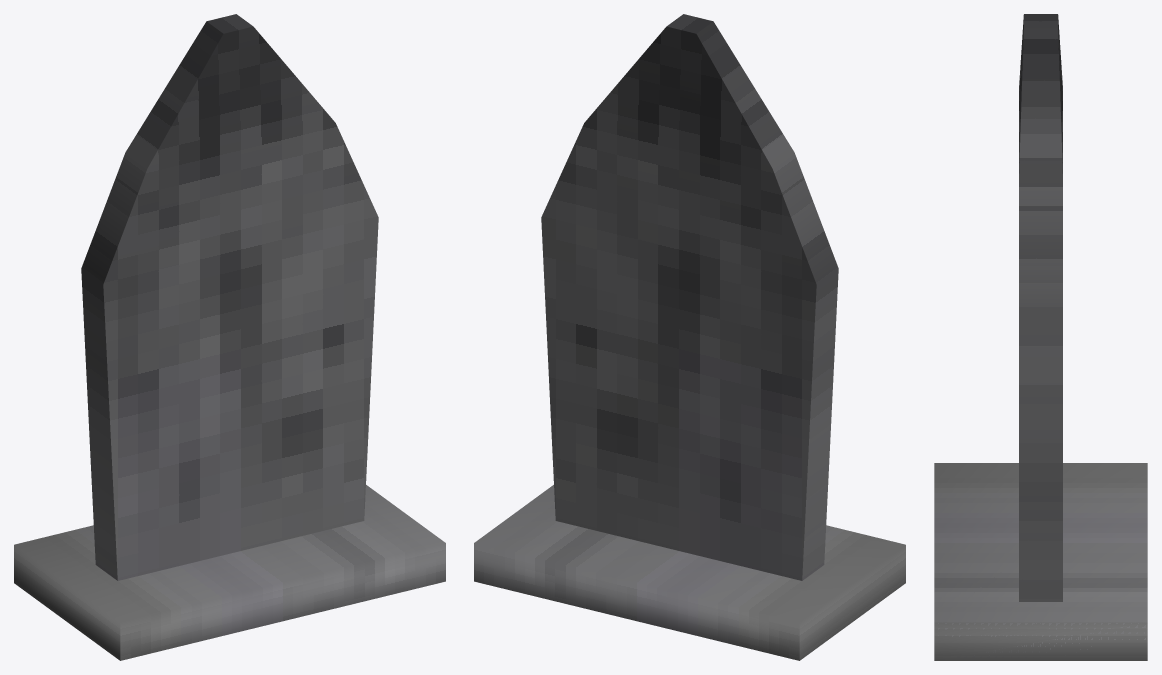
File: Grave2.fbx
3 renders of one model, left to right at view 1: azimuth 30°, elevation 25°; view 2: azimuth 150°, elevation 25°; view 3: azimuth 270°, elevation 25°, orthographic.
Parts seen in each view (by area): view 1: Grave2; view 2: Grave2; view 3: Grave2.
Boxes of the visible parts, x1,y1,x2,y2 form: Grave2: [14, 14, 445, 660]; Grave2: [474, 14, 905, 660]; Grave2: [934, 14, 1147, 660].
Size of the model in its own units: 3.52 by 5.77 by 1.99.
1 material, 1 textured.
